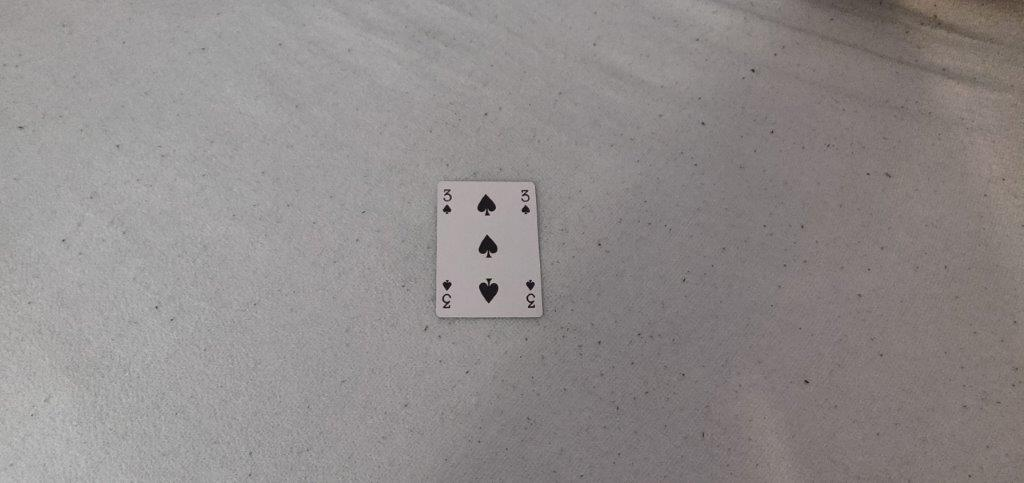3S: (439, 186, 456, 217), (518, 187, 533, 218)
